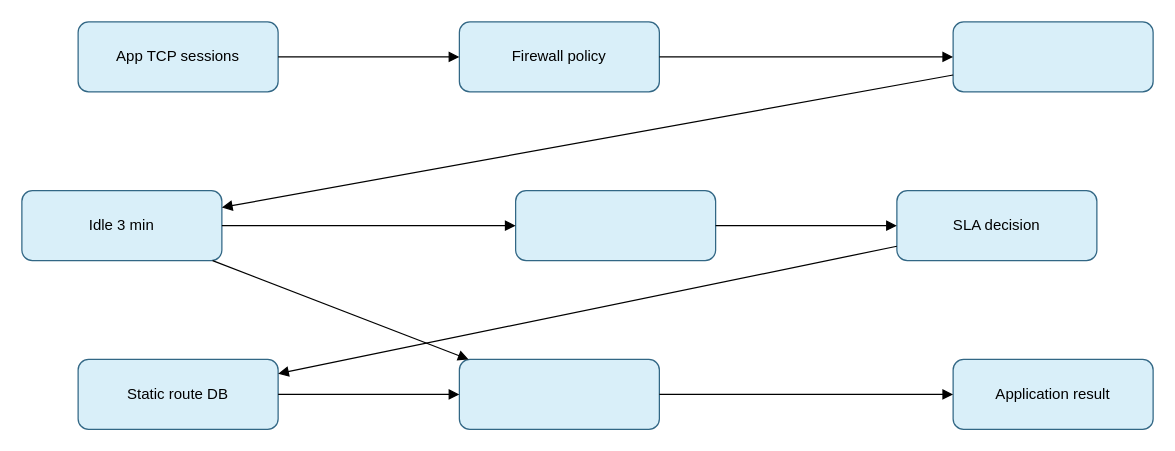
Image size: 1175x451. Some labels were removed from this diagram. Here are the shapes that lost their labels. From the top down, the centre of each, then its label:
At point (1052, 56): "Passive metrics".
At point (615, 225): "Active probe fallback".
At point (558, 393): "FIB forwarding".
